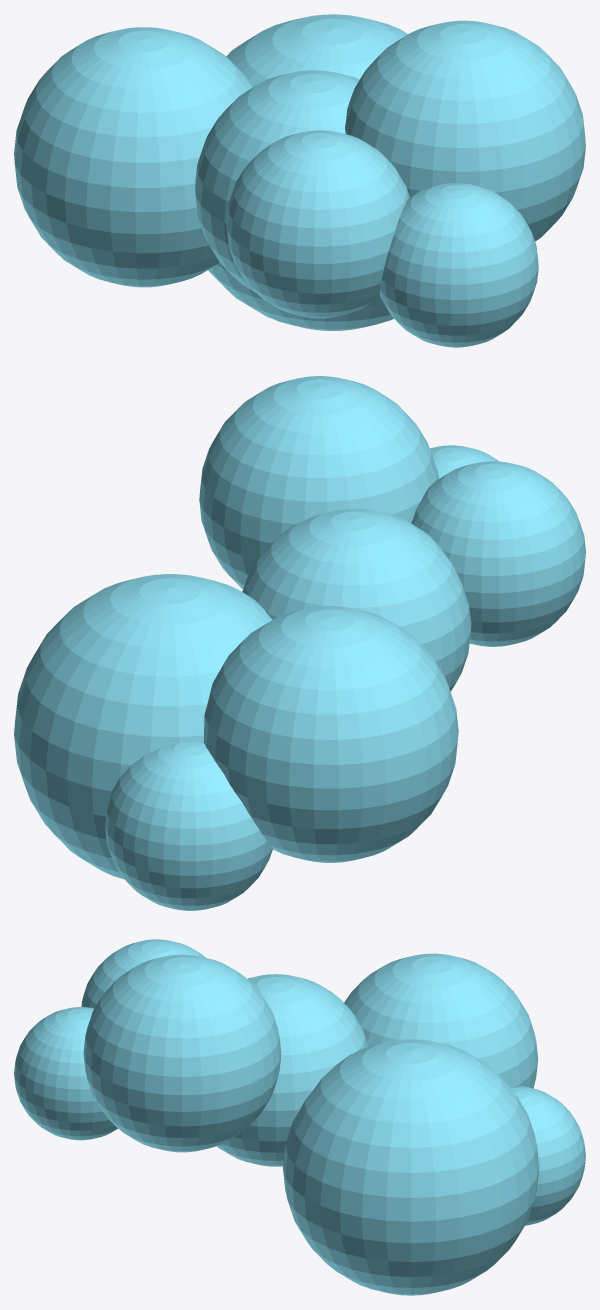
File: nube.glb
3 views of the same model, one above another, from view 1: azimuth 30°, elevation 25°; view 2: azimuth 150°, elevation 25°; view 3: azimuth 270°, elevation 25° (orthographic). The views are drawn at different scales.
Visible parts, largest first — view 1: Sphere; view 2: Sphere; view 3: Sphere.
Boxes of the visible parts, bbox=[...] form: Sphere: bbox=[14, 14, 585, 347]; Sphere: bbox=[14, 376, 585, 910]; Sphere: bbox=[14, 939, 585, 1295].
Bounding box in the file's own units: 50.76 × 44.48 × 72.99.
